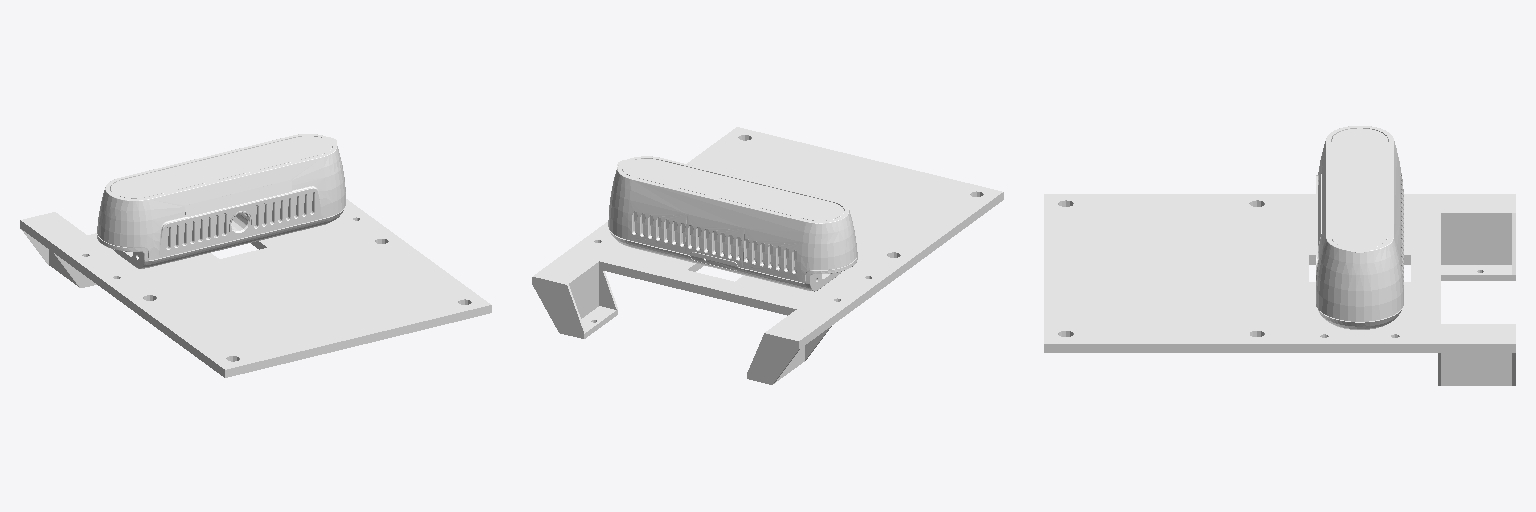
URDF robot description (camera_board2):
<?xml version="1.0" encoding="utf-8"?>
<!-- This URDF was automatically created by SolidWorks to URDF Exporter! Originally created by Stephen Brawner (brawner@gmail.com) 
     Commit Version: 1.6.0-4-g7f85cfe  Build Version: 1.6.7995.38578
     For more information, please see http://wiki.ros.org/sw_urdf_exporter -->
<robot
  name="camera_board2">
  <link
    name="base_link">
    <inertial>
      <origin
        xyz="0.00108090334069513 0.0552476750881365 0.0120370228370369"
        rpy="0 0 0" />
    <mass value="0" />
    <inertia
        ixx="0.0"
        ixy="0.0"
        ixz="0.0"
        iyy="0.0"
        iyz="0.0"
        izz="0.0" />
    </inertial>
    <visual>
      <origin
        xyz="0 0 0"
        rpy="0 0 0" />
      <geometry>
        <mesh
          filename="./meshes/camera_board/camera.STL" />
      </geometry>
      <material
        name="">
        <color
          rgba="1 1 1 1" />
      </material>
    </visual>
    <collision>
      <origin
        xyz="0 0 0"
        rpy="0 0 0" />
      <geometry>
        <mesh
          filename="./meshes/camera_board/camera.STL" />
      </geometry>
    </collision>
  </link>

  <link
    name="rgb_link">
    <inertial>
      <origin
        xyz="0.0331329722954641 0.0259425264235928 -0.0273488462636874"
        rpy="0 0 0" />
    <mass value="0" />
    <inertia
        ixx="0.0"
        ixy="0.0"
        ixz="0.0"
        iyy="0.0"
        iyz="0.0"
        izz="0.0" />
    </inertial>
  </link>
  <joint
    name="rgb_optical_joint"
    type="fixed">
    <origin
      xyz="0.0331329722954641 0.056 0.025016"
      rpy="0 0 3.14159265358979" />
    <parent
      link="base_link" />
    <child
      link="rgb_link" />
    <axis
      xyz="0 0 0" />
  </joint>
  <link
    name="right_cam_link">
    <inertial>
      <origin
        xyz="0.0181329722954641 0.0259425264235928 -0.0273488462636874"
        rpy="0 0 0" />
    <mass value="0" />
    <inertia
        ixx="0.0"
        ixy="0.0"
        ixz="0.0"
        iyy="0.0"
        iyz="0.0"
        izz="0.0" />
    </inertial>
  </link>
  <joint
    name="right_optical_joint"
    type="fixed">
    <origin
      xyz="0.0181329722954641 0.056 0.025016"
      rpy="0 0 3.14159265358979" />
    <parent
      link="base_link" />
    <child
      link="right_cam_link" />
    <axis
      xyz="0 0 0" />
  </joint>
  <link
    name="left_cam_link">
    <inertial>
      <origin
        xyz="-0.0318670277045359 0.0259425264235928 -0.0273488462636874"
        rpy="0 0 0" />
    <mass value="0" />
    <inertia
        ixx="0.0"
        ixy="0.0"
        ixz="0.0"
        iyy="0.0"
        iyz="0.0"
        izz="0.0" />
    </inertial>
  </link>
  <joint
    name="left_optical_joint"
    type="fixed">
    <origin
      xyz="-0.0318670277045359 0.056 0.025016"
      rpy="0 0 3.14159265358979" />
    <parent
      link="base_link" />
    <child
      link="left_cam_link" />
    <axis
      xyz="0 0 0" />
  </joint>
</robot>

--- Render facts (derived) ---
3 views of the same robot in one strip: view 1: azimuth 30°, elevation 25°; view 2: azimuth 150°, elevation 25°; view 3: azimuth 270°, elevation 25° (orthographic).
Model camera_board2 with 4 links and 3 joints (3 fixed), rooted at base_link, posed all joints at 0.
Links seen in each view (by area): view 1: base_link; view 2: base_link; view 3: base_link.
Boxes of the visible links, bbox=[...] form: base_link: bbox=[20, 134, 491, 377]; base_link: bbox=[532, 127, 1003, 384]; base_link: bbox=[1044, 126, 1515, 385].
Bounding box of the posed robot: 0.1 × 0.133 × 0.043 m (x, y, z).
1 mesh visuals loaded from 1 distinct referenced files (1 binary STL).
